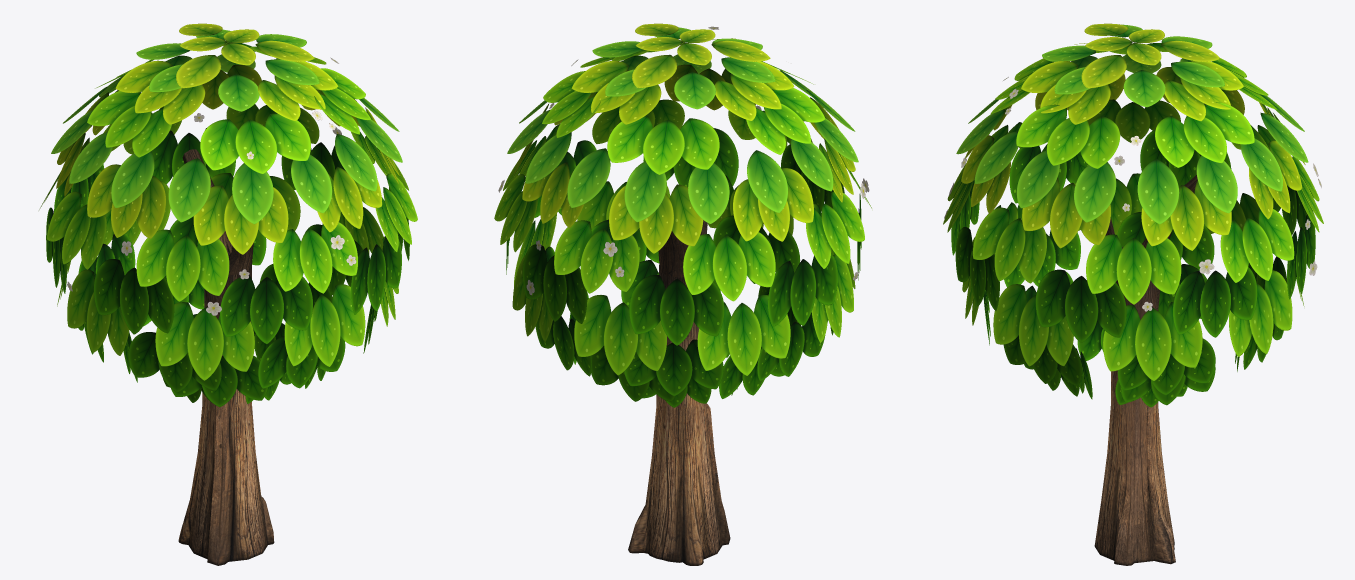
File: BroadleafTree.fbx
3 renders of one model, left to right at view 1: azimuth 30°, elevation 25°; view 2: azimuth 150°, elevation 25°; view 3: azimuth 270°, elevation 25°, orthographic.
Parts seen in each view (by area): view 1: Leaves, Trunk, Blossoms; view 2: Leaves, Trunk, Blossoms; view 3: Leaves, Trunk, Blossoms.
Boxes of the visible parts, x1,y1,x2,y2 form: Leaves: (39, 23, 417, 407); Trunk: (178, 149, 274, 565); Blossoms: (67, 57, 366, 315); Leaves: (494, 23, 871, 407); Trunk: (628, 220, 730, 565); Blossoms: (498, 26, 869, 295); Leaves: (943, 23, 1323, 407); Trunk: (1094, 175, 1197, 565); Blossoms: (944, 77, 1321, 311).
Bounding box in the file's own units: 384 × 516 × 384.
Materials: 2 (2 with a texture image).
